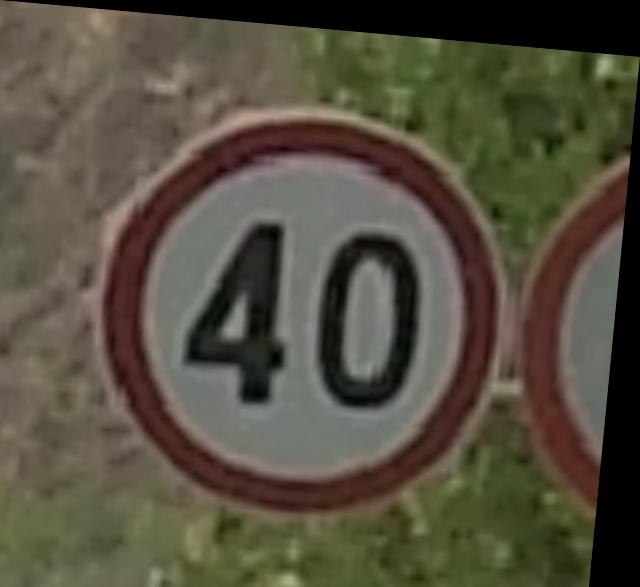limit40: (70, 80, 534, 525)
